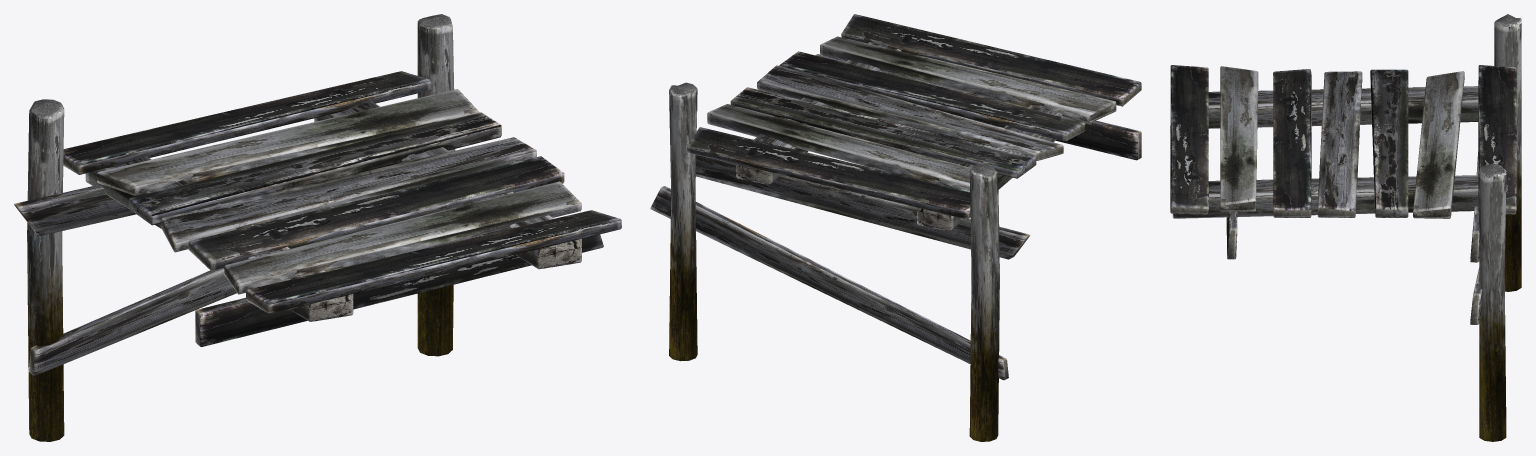
Rendered from dock4.fbx.
3 views of the same model, side by side, from view 1: azimuth 30°, elevation 25°; view 2: azimuth 150°, elevation 25°; view 3: azimuth 270°, elevation 25° (orthographic). The views are drawn at different scales.
Parts seen in each view (by area): view 1: Mesh; view 2: Mesh; view 3: Mesh.
Part boxes in pixels (x1,y1,x2,y2): Mesh: [14, 14, 621, 441]; Mesh: [650, 14, 1141, 441]; Mesh: [1170, 14, 1521, 441].
Size of the model in its own units: 495 by 330 by 393.
